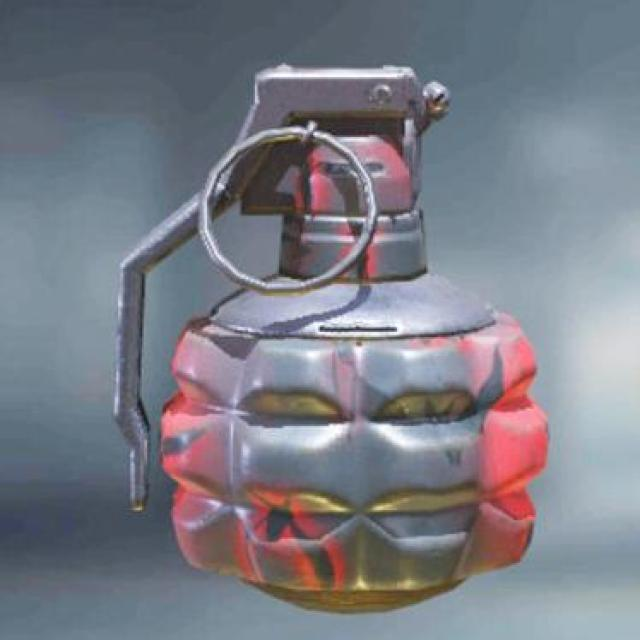grenade: (113, 64, 551, 613)
